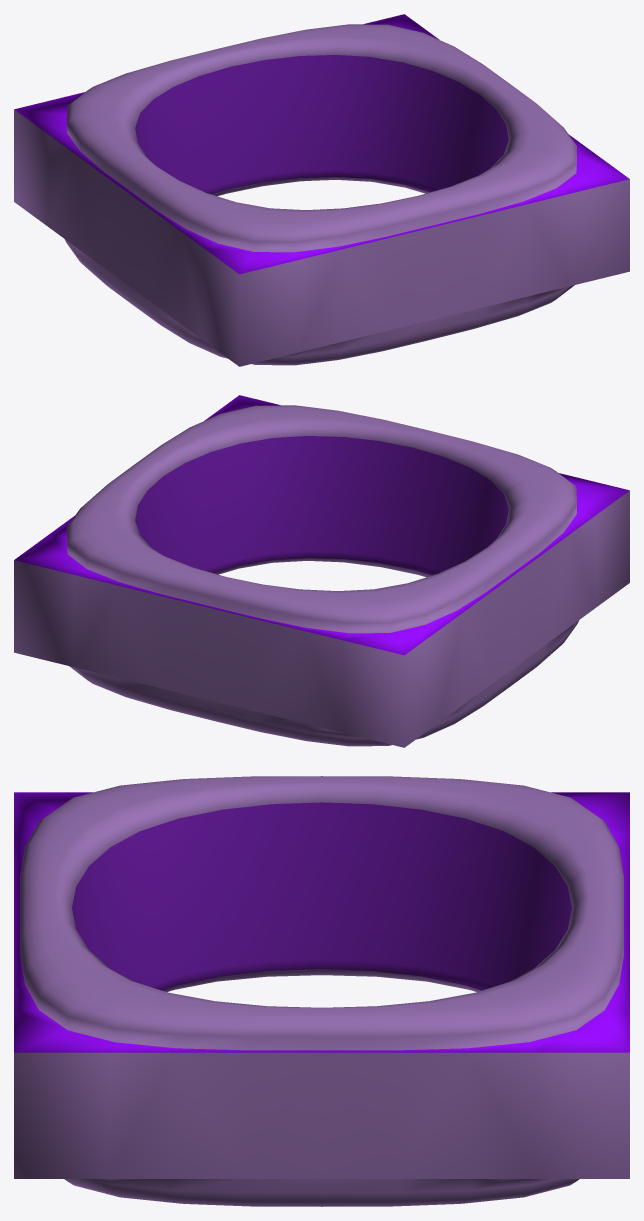
File: Dole_Purp.fbx
The picture shows the model from 3 angles, top to bottom: view 1: azimuth 30°, elevation 25°; view 2: azimuth 150°, elevation 25°; view 3: azimuth 270°, elevation 25°; orthographic projection. The views are drawn at different scales.
Visible parts, largest first — view 1: Hole_Down; view 2: Hole_Down; view 3: Hole_Down.
Part boxes in pixels (left/top/right/bottom): Hole_Down: left=14, top=14, right=629, bottom=366; Hole_Down: left=14, top=395, right=629, bottom=747; Hole_Down: left=14, top=776, right=629, bottom=1206.
Bounding box in the file's own units: 3.25 × 1.12 × 3.25.
